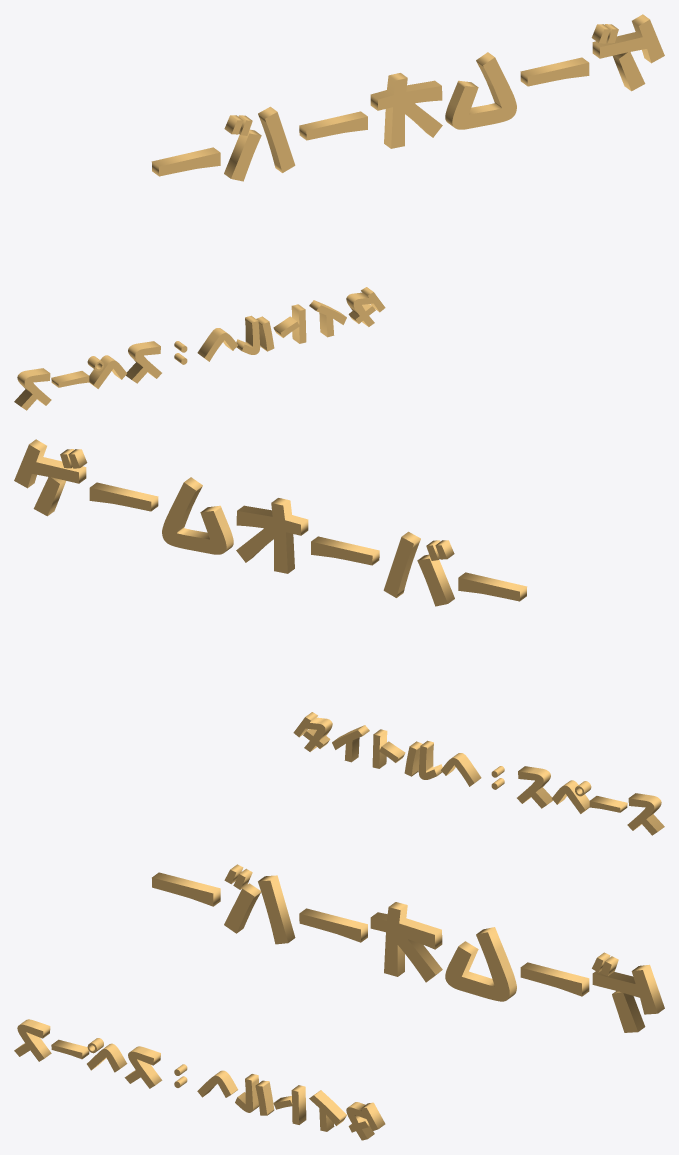
Rendered from gameoverText.obj.
The picture shows the model from 3 angles, top to bottom: view 1: azimuth 30°, elevation 25°; view 2: azimuth 150°, elevation 25°; view 3: azimuth 330°, elevation 25°; orthographic projection.
Parts seen in each view (by area): view 1: テキスト.002, テキスト.001; view 2: テキスト.002, テキスト.001; view 3: テキスト.002, テキスト.001.
Part boxes in pixels (<box>): テキスト.002: <box>151,14,664,181</box>; テキスト.001: <box>14,287,385,410</box>; テキスト.002: <box>14,439,527,606</box>; テキスト.001: <box>293,712,664,835</box>; テキスト.002: <box>152,864,664,1032</box>; テキスト.001: <box>14,1019,385,1140</box>.
Size of the model in its own units: 52.19 by 18.64 by 1.
Materials: 2 (2 with a texture image).
